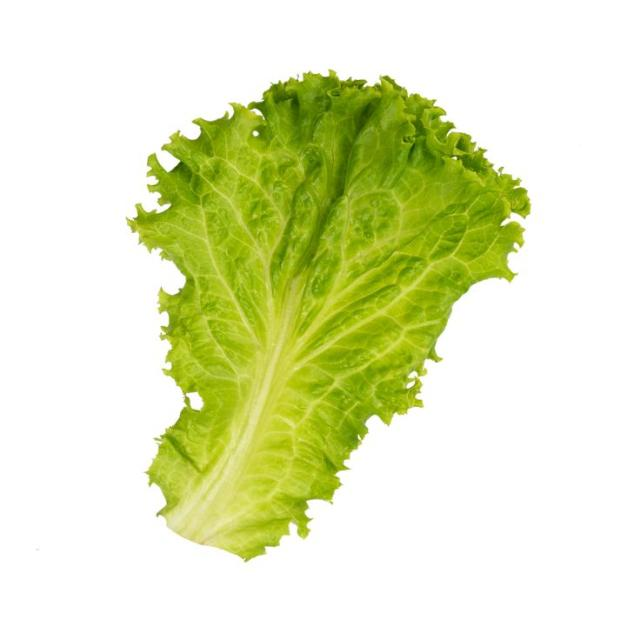lettuce: (130, 74, 528, 558)
